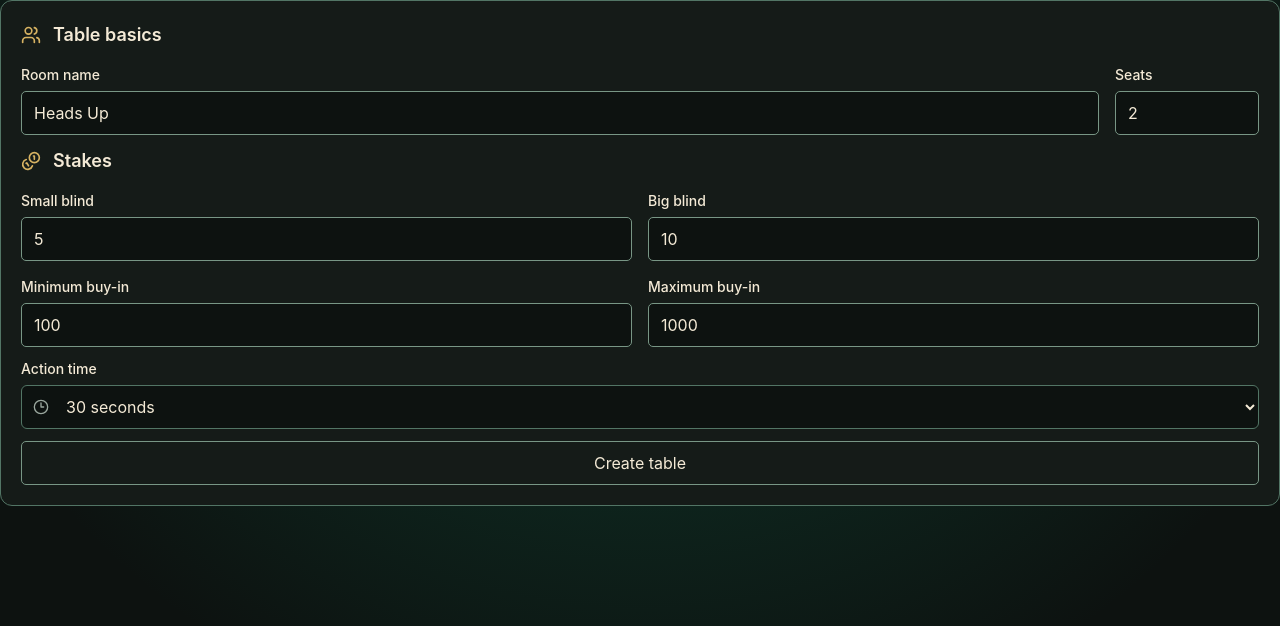
Test case: CreateRoomForm › uses a catalogued default room name and hides server failures
Expected: the field labelled "Room name" holds "Heads Up", [21, 91, 1099, 135]
Click the button "Create table".
click(640, 463)  # box [21, 441, 1259, 485]
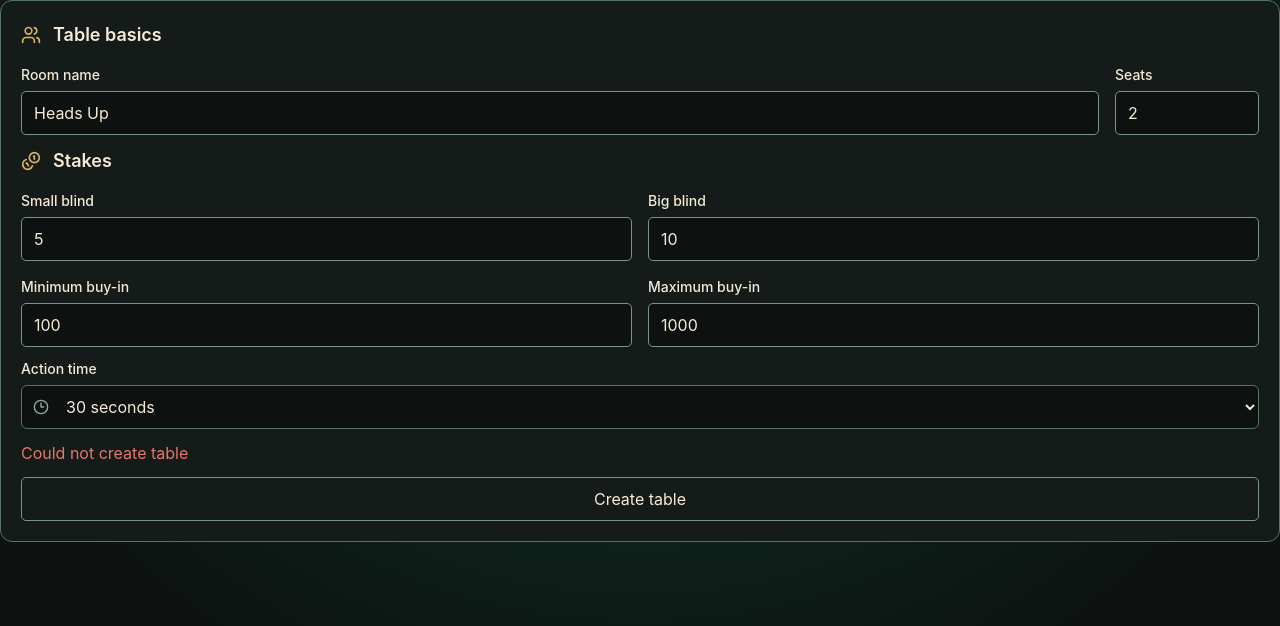
Result: the message reads "Could not create table" at [21, 443, 188, 463]
